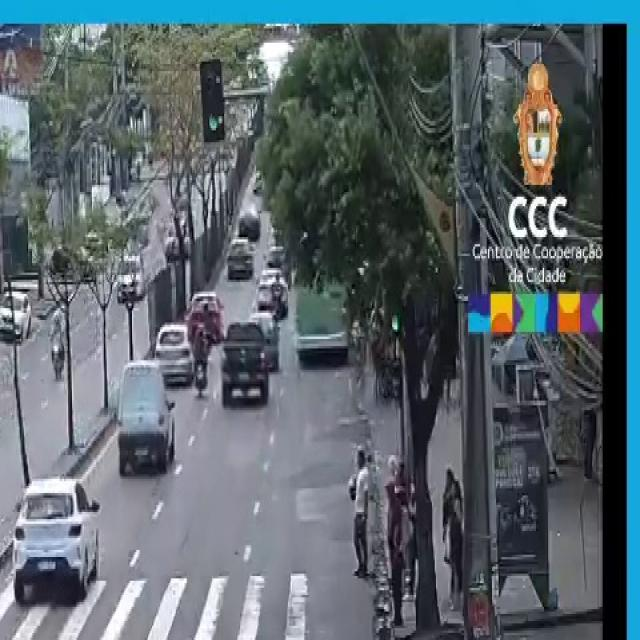biker: (48, 305, 66, 378)
car: (11, 474, 104, 609), (116, 359, 178, 484), (219, 320, 271, 408), (0, 287, 31, 348)
people: (347, 442, 379, 590)
